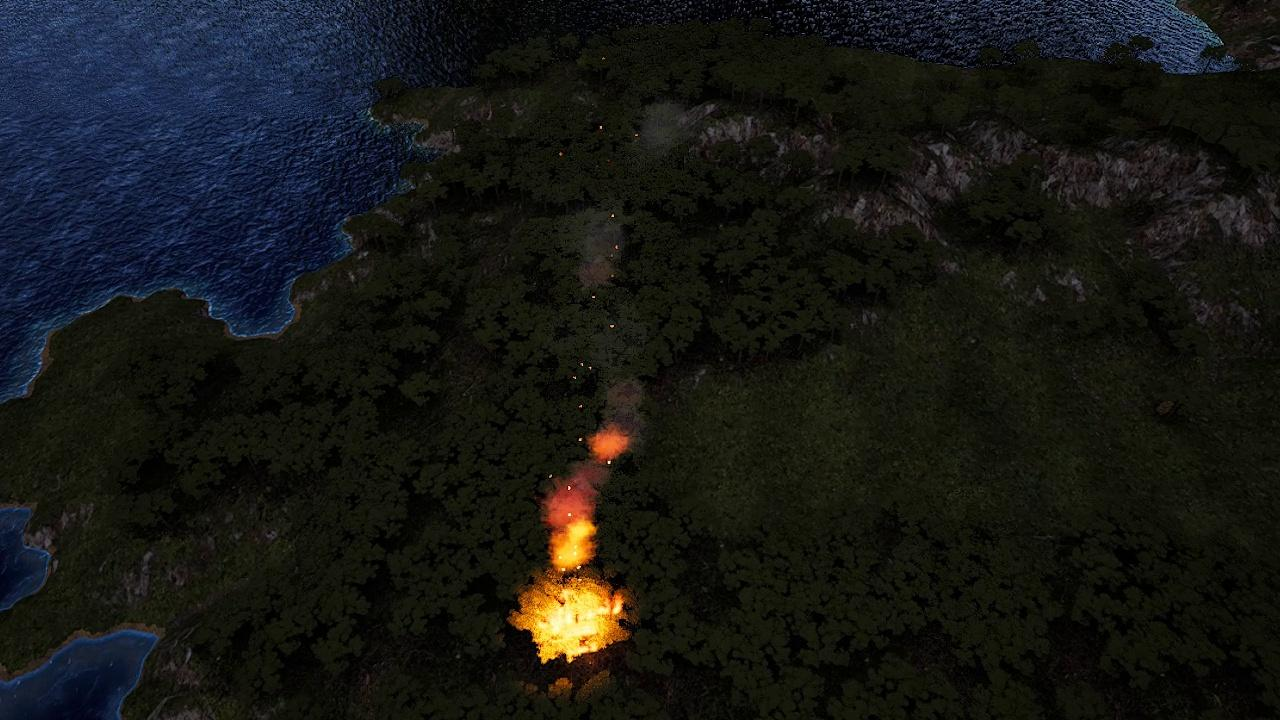fire: (527, 586, 619, 662), (544, 464, 603, 571), (588, 423, 635, 464)
smoke: (574, 216, 626, 288)
